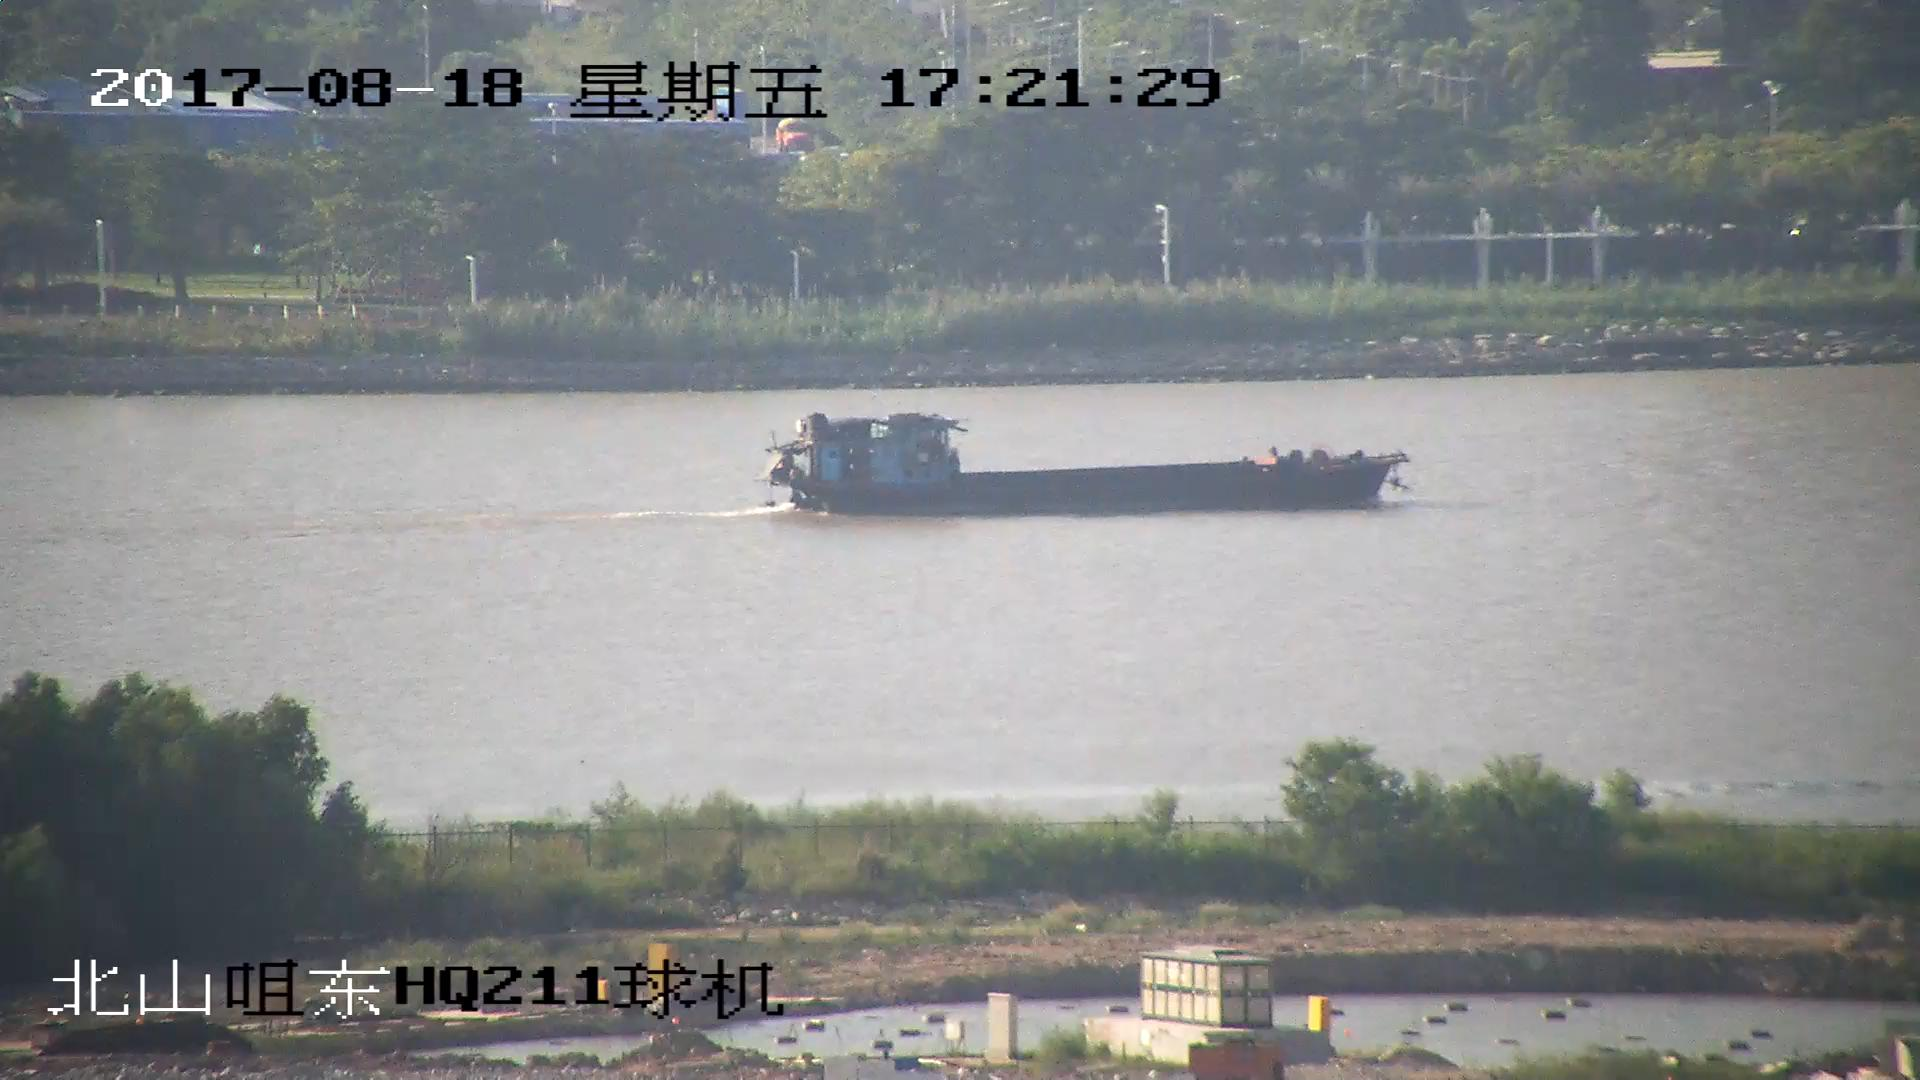bulk cargo carrier: (768, 416, 1407, 517)
